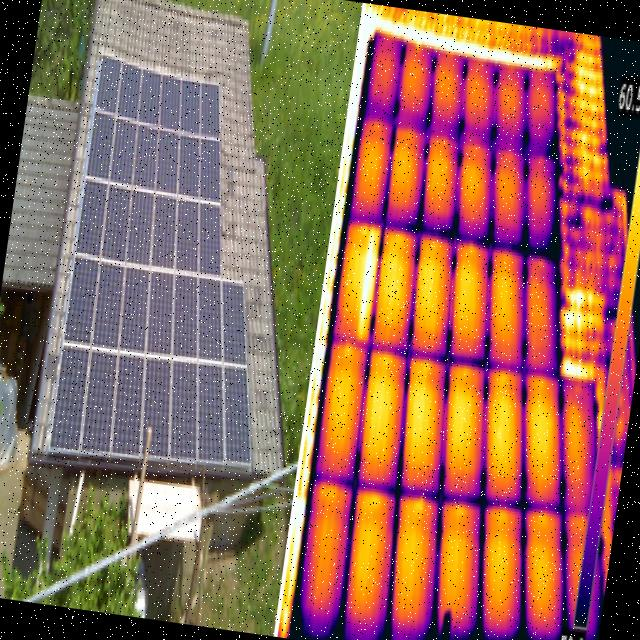Hotspot: (354, 227, 380, 338)
